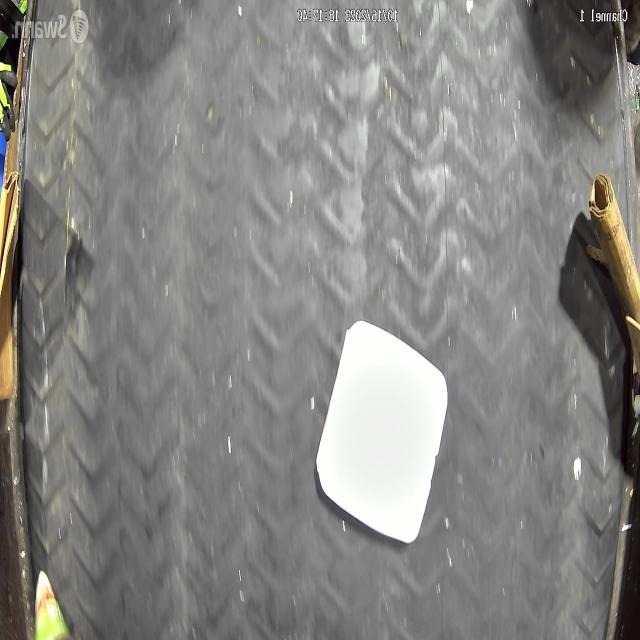milk_jug: (315, 320, 447, 548)
